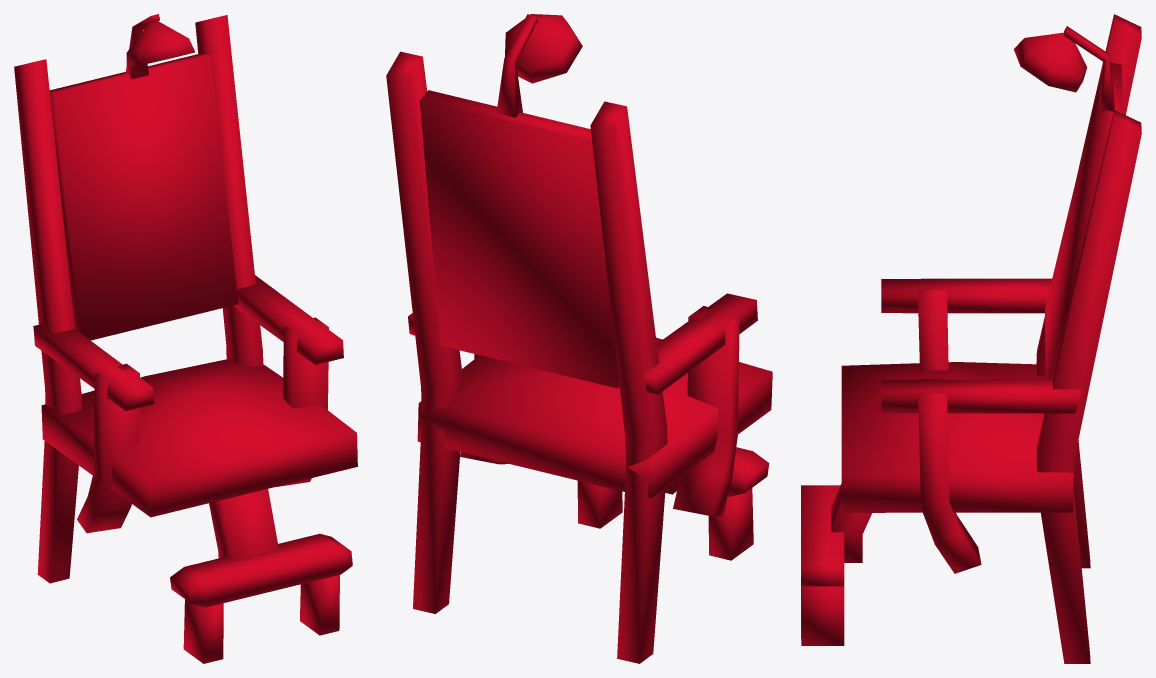
File: UCX_electric_chair.fbx
The picture shows the model from 3 angles, left to right: view 1: azimuth 30°, elevation 25°; view 2: azimuth 150°, elevation 25°; view 3: azimuth 270°, elevation 25°; orthographic projection. The views are drawn at different scales.
Parts seen in each view (by area): view 1: UCX_electric_chair; view 2: UCX_electric_chair; view 3: UCX_electric_chair.
Boxes of the visible parts, x1,y1,x2,y2 form: UCX_electric_chair: (14,14,357,663); UCX_electric_chair: (386,14,772,663); UCX_electric_chair: (801,14,1141,663).
Size of the model in its own units: 0.6992 by 1.61 by 0.8498.
